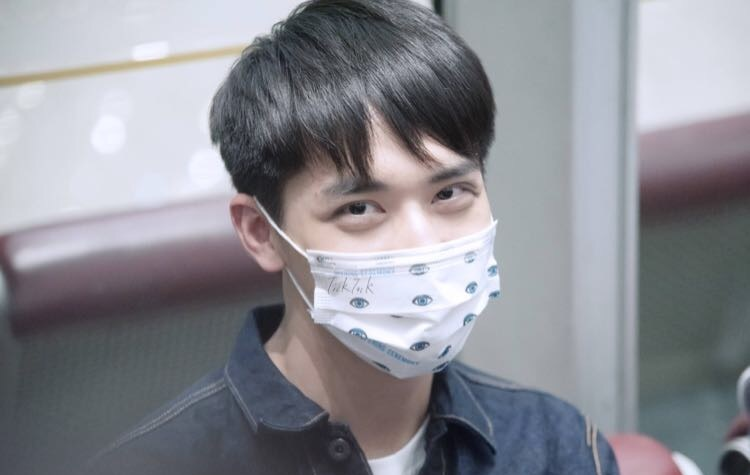face_mask: (297, 103, 503, 382)
